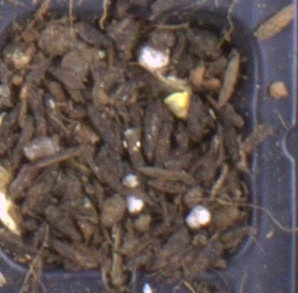chilli seed: (163, 90, 190, 110)
